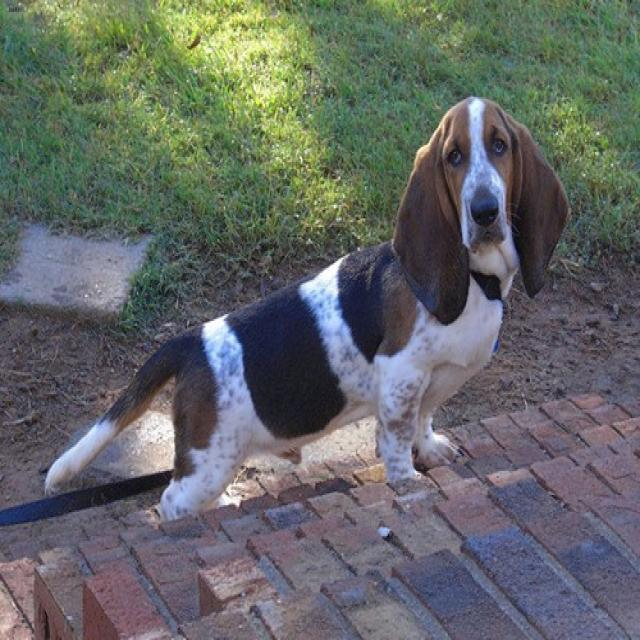dog-basset_hound: (31, 87, 576, 526)
